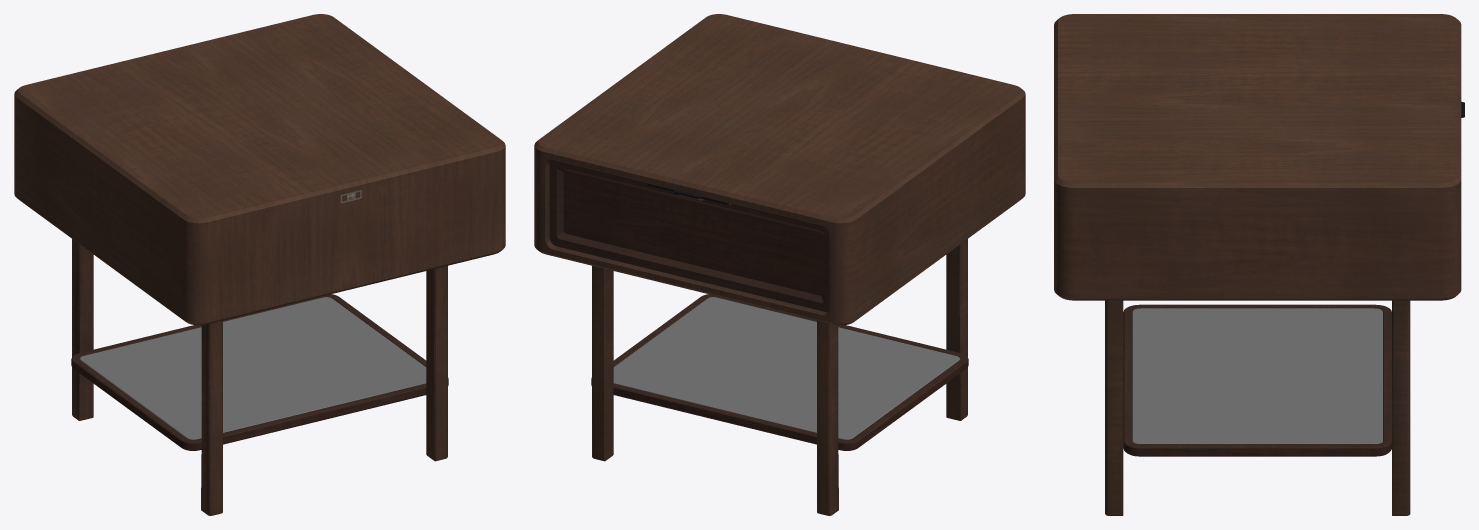
The model's file is nightstand_2.glb.
3 views of the same model, side by side, from view 1: azimuth 30°, elevation 25°; view 2: azimuth 150°, elevation 25°; view 3: azimuth 270°, elevation 25° (orthographic). The views are drawn at different scales.
Visible parts, largest first — view 1: Nigthstand - JLRIN_0; view 2: Nigthstand - JLRIN_0; view 3: Nigthstand - JLRIN_0.
Boxes of the visible parts, bbox=[...] form: Nigthstand - JLRIN_0: bbox=[14, 14, 505, 515]; Nigthstand - JLRIN_0: bbox=[534, 14, 1025, 515]; Nigthstand - JLRIN_0: bbox=[1054, 14, 1464, 515].
Size of the model in its own units: 0.597 by 0.572 by 0.6022.
1 material, 1 textured.
